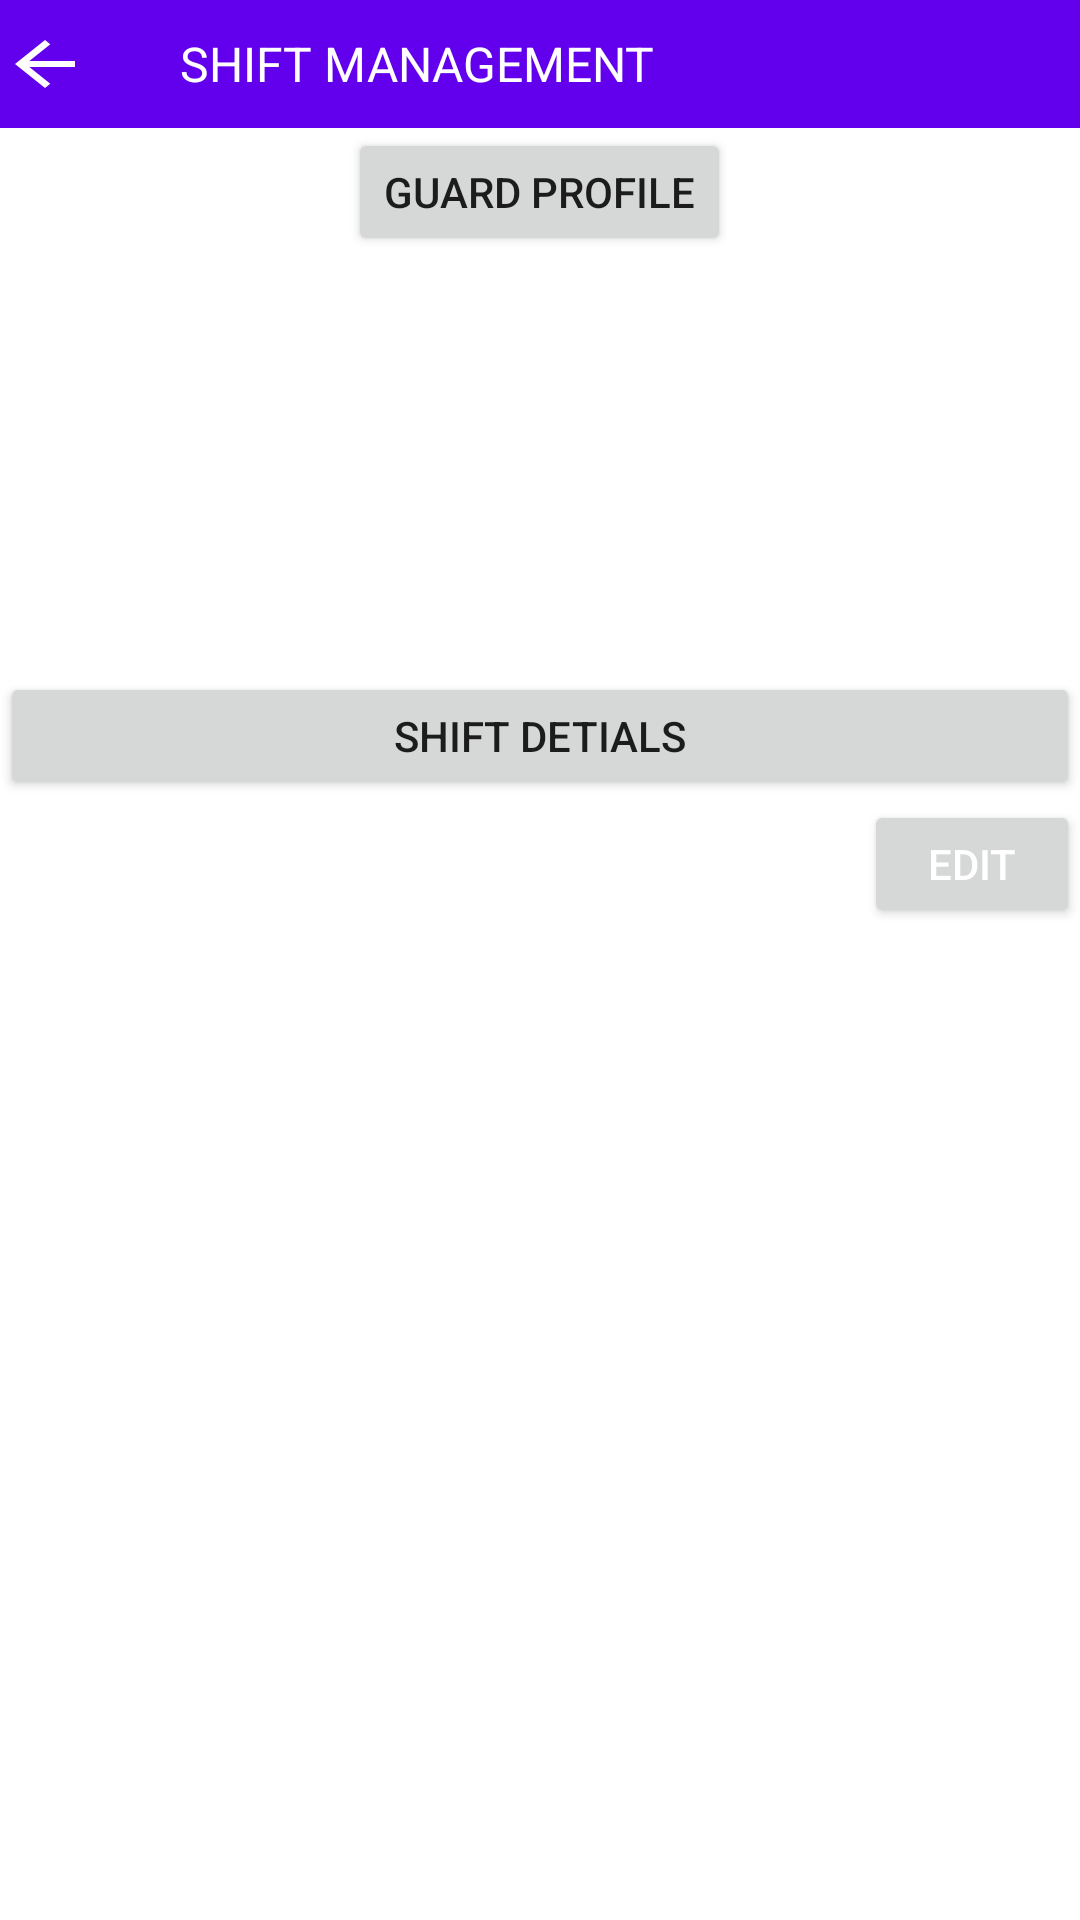

Point at icon controls on the screen. Image size 1080 × 1920, points as (x=x, y=y).
backarrow: (x=45, y=64)
